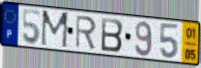5: (22, 7, 42, 47), (159, 23, 180, 61)
9: (134, 19, 154, 57)
B: (100, 16, 125, 54)
M: (40, 9, 72, 50)
R: (74, 14, 98, 51)
